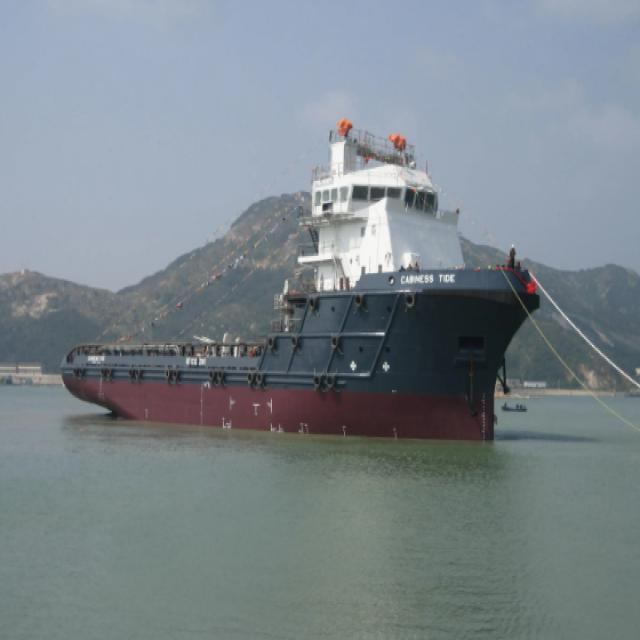cargoship: (65, 117, 532, 441)
